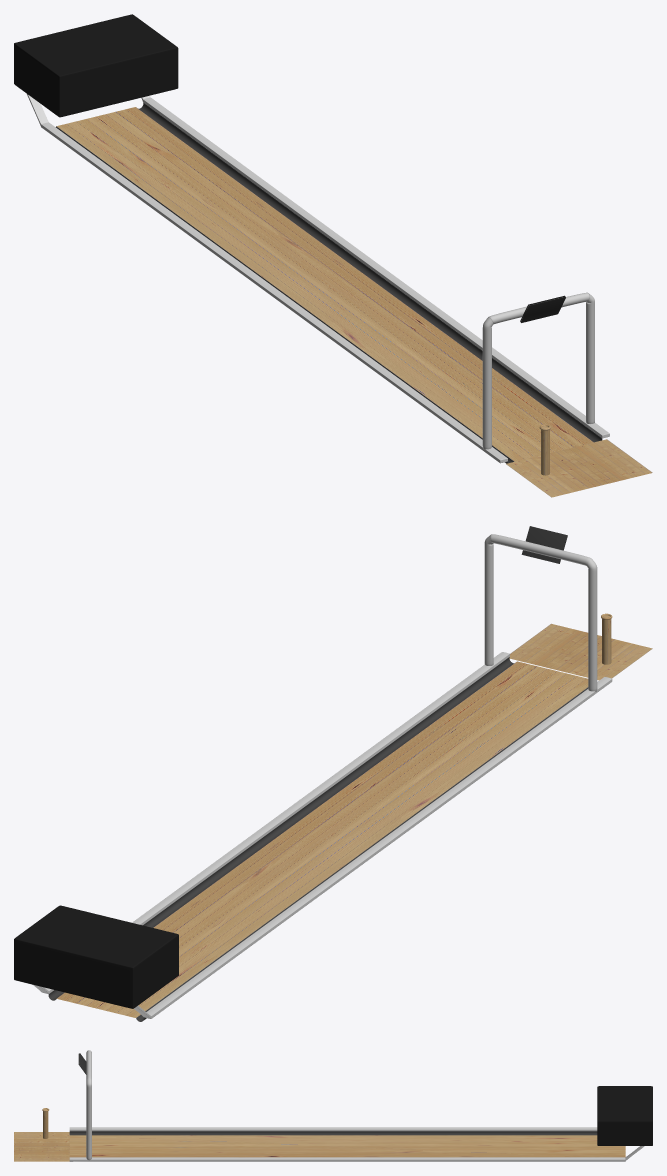
The model's file is bowling-lane2.fbx.
The picture shows the model from 3 angles, top to bottom: view 1: azimuth 30°, elevation 25°; view 2: azimuth 150°, elevation 25°; view 3: azimuth 270°, elevation 25°; orthographic projection. The views are drawn at different scales.
Parts seen in each view (by area): view 1: Plane, Cube.001, Cube, Cylinder, Plane.001, Cylinder.001, Cube.002; view 2: Plane, Cube.001, Cube, Cylinder, Plane.001, Cylinder.001, Cube.002; view 3: Plane, Cube, Cube.001, Cylinder, Plane.001, Cylinder.001.
Part boxes in pixels (<box>): Plane: <box>56,107,593,475</box>; Cube.001: <box>14,14,178,117</box>; Cube: <box>27,94,609,463</box>; Cylinder: <box>56,103,602,463</box>; Plane.001: <box>506,439,652,497</box>; Cylinder.001: <box>482,292,594,449</box>; Cube.002: <box>520,295,565,322</box>; Plane: <box>56,613,612,1017</box>; Cube.001: <box>14,905,178,1008</box>; Cube: <box>33,652,612,1018</box>; Cylinder: <box>48,657,588,1021</box>; Plane.001: <box>509,623,652,680</box>; Cylinder.001: <box>484,534,597,691</box>; Cube.002: <box>521,526,567,563</box>; Plane: <box>42,1108,625,1157</box>; Cube: <box>69,1127,644,1161</box>; Cube.001: <box>597,1086,652,1145</box>; Cylinder: <box>69,1131,597,1161</box>; Plane.001: <box>14,1132,69,1161</box>; Cylinder.001: <box>86,1050,91,1160</box>.
Size of the model in its own units: 3000 by 3580 by 22996.
